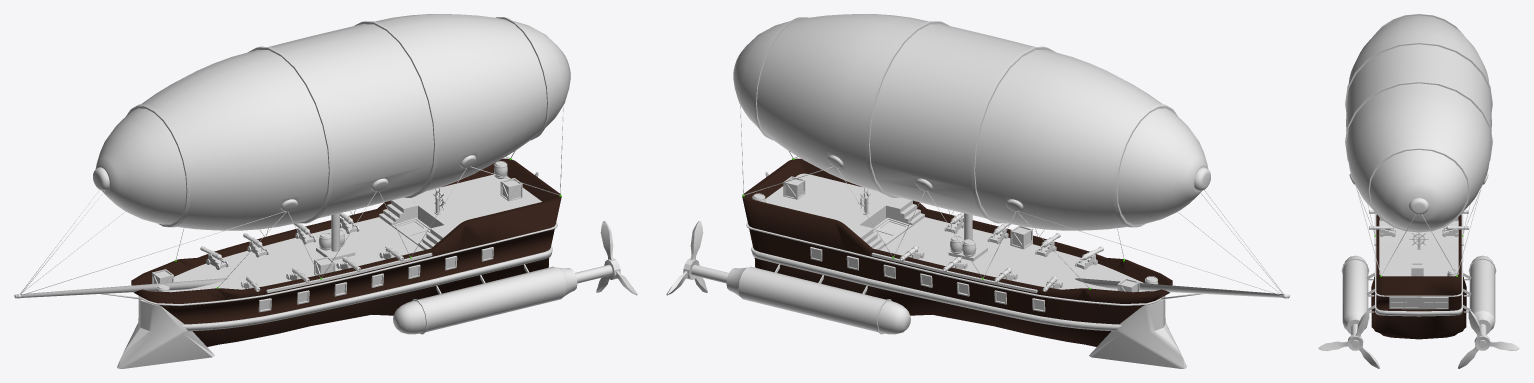
The model's file is Airship (14).fbx.
3 views of the same model, side by side, from view 1: azimuth 30°, elevation 25°; view 2: azimuth 150°, elevation 25°; view 3: azimuth 270°, elevation 25° (orthographic). The views are drawn at different scales.
Visible parts, largest first — view 1: Balloon, Ship Body, Engines.001, Ram Scoop, Details, Ropes and Rigging, Steps, Cannon Base, Crate, Cannon Barrell, Left Propellor, Barrel (+1 smaller); view 2: Balloon, Ship Body, Engines.001, Ram Scoop, Details, Ropes and Rigging, Steps, Crate, Cannon Base, Cannon Barrell, Right Propellor, Barrel (+1 smaller); view 3: Balloon, Ship Body, Engines.001, Back Window, Right Propellor, Left Propellor, Ropes and Rigging, Cannon Base, Cannon Barrell, Steps, Crate.
Part boxes in pixels (x1,y1,x2,y2): Balloon: [93, 14, 570, 251]; Ship Body: [131, 158, 561, 346]; Engines.001: [393, 264, 612, 334]; Ram Scoop: [117, 296, 214, 368]; Details: [14, 247, 493, 312]; Ropes and Rigging: [20, 105, 563, 294]; Steps: [379, 197, 451, 250]; Cannon Base: [206, 216, 398, 288]; Crate: [152, 178, 522, 283]; Cannon Barrell: [200, 213, 403, 291]; Left Propellor: [596, 221, 637, 295]; Barrel: [156, 161, 507, 292]; Balloon: [733, 14, 1210, 240]; Ship Body: [742, 158, 1172, 346]; Engines.001: [691, 264, 910, 334]; Ram Scoop: [1089, 296, 1186, 368]; Details: [810, 247, 1289, 312]; Ropes and Rigging: [740, 105, 1283, 295]; Steps: [852, 197, 924, 250]; Crate: [783, 176, 1139, 292]; Cannon Base: [905, 216, 1097, 288]; Cannon Barrell: [899, 213, 1103, 291]; Right Propellor: [666, 221, 707, 295]; Barrel: [752, 193, 1158, 291]; Balloon: [1345, 14, 1492, 232]; Ship Body: [1371, 213, 1466, 339]; Engines.001: [1341, 255, 1496, 347]; Back Window: [1389, 297, 1448, 309]; Right Propellor: [1458, 310, 1519, 368]; Left Propellor: [1318, 310, 1379, 368]; Ropes and Rigging: [1355, 185, 1482, 276]; Cannon Base: [1379, 218, 1458, 237]; Cannon Barrell: [1369, 210, 1468, 229]; Steps: [1379, 242, 1458, 247]; Crate: [1411, 263, 1423, 276].
Size of the model in its own units: 3839 by 1893 by 1570.
